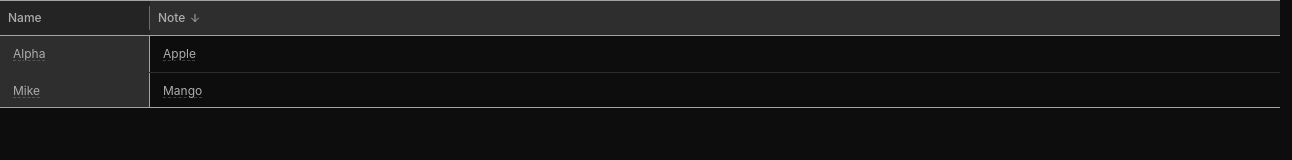
DataGrid focus after commit resort › shift-tabs to the previous cell after editing a sorted column that moves the row
Later steps or results of the test are not shown.
Press the mouse on the 2nd field: (715, 54) [158,40,1272,68]
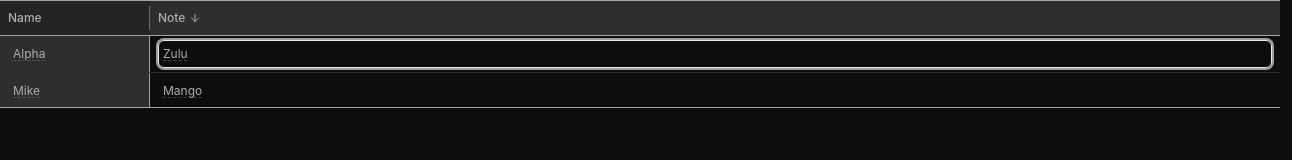
Result: the 2nd field has attribute data-grid-editing="true" at [158,40,1272,68]
